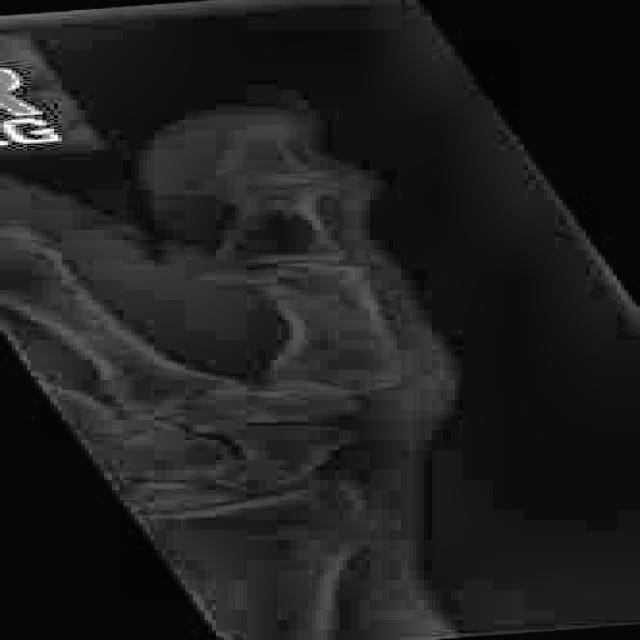fingers positive: (173, 164, 376, 218)
